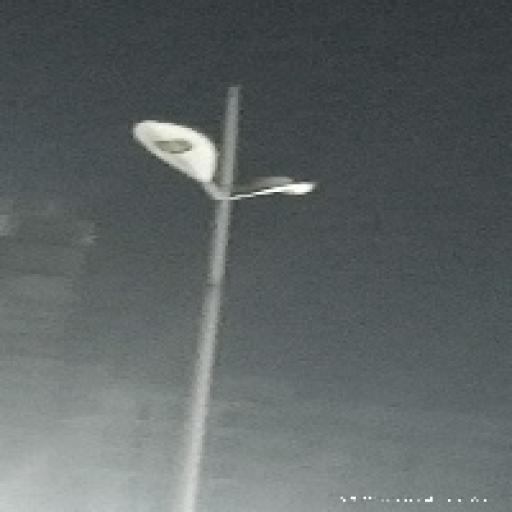Not Working: (122, 107, 231, 202), (240, 165, 316, 220)
